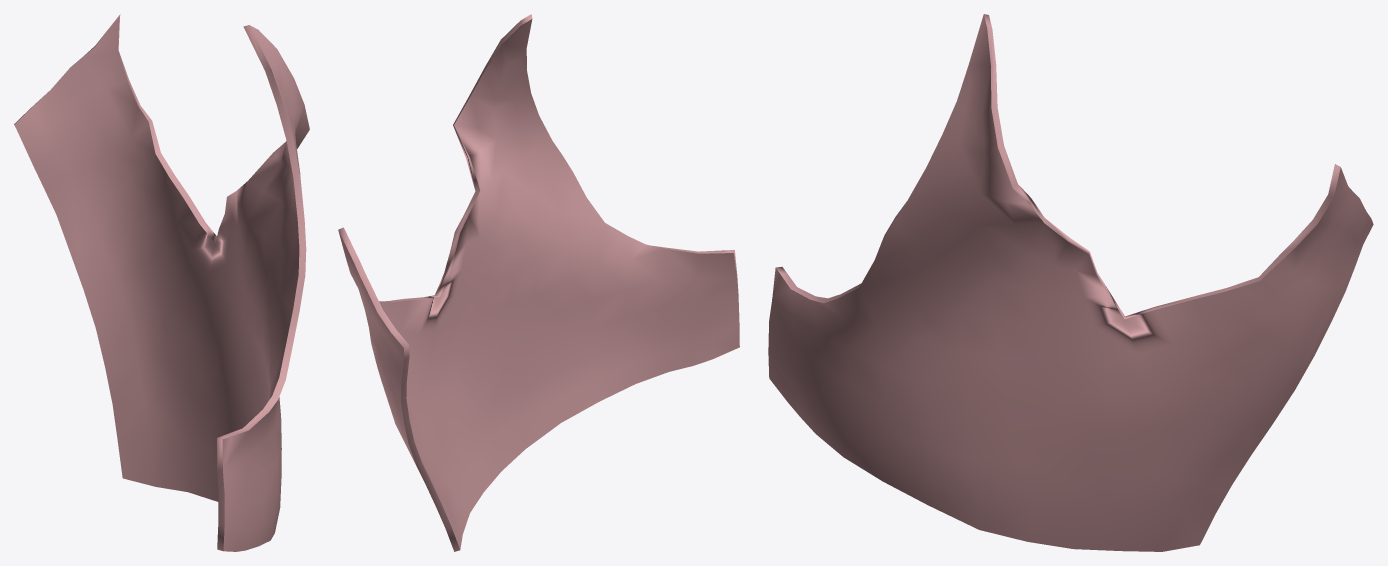
3 views of the same model, side by side, from view 1: azimuth 30°, elevation 25°; view 2: azimuth 150°, elevation 25°; view 3: azimuth 270°, elevation 25° (orthographic). The views are drawn at different scales.
Visible parts, largest first — view 1: ZA_69ed877510e6565f; view 2: ZA_69ed877510e6565f; view 3: ZA_69ed877510e6565f.
Boxes of the visible parts, x1,y1,x2,y2 form: ZA_69ed877510e6565f: [14, 14, 309, 551]; ZA_69ed877510e6565f: [338, 14, 739, 551]; ZA_69ed877510e6565f: [768, 14, 1373, 551].
Size of the model in its own units: 0.1011 by 0.2437 by 0.2475.
